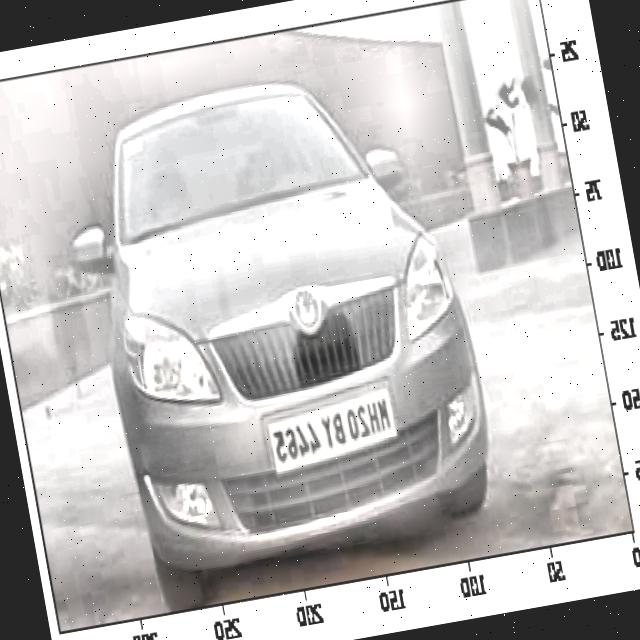license_plate: (263, 388, 400, 472)
